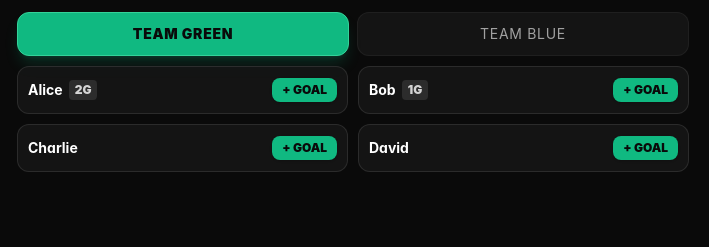
WinnerStaysGoalEntry Component › Roster Switching & Display › switches the displayed player roster instantly when toggling tabs
The width and height of the screenshot is (709, 247).
Expected: the text "Alice" is shown, [28,80,63,100]
Expected: the text "Bob" is shown, [369,80,396,100]
// Switch to Team Blue
What coordinates should you click on to do the following:
click the tab "Team Blue"
I would click on:
 (523, 34)
Its box is [357,12,689,56].
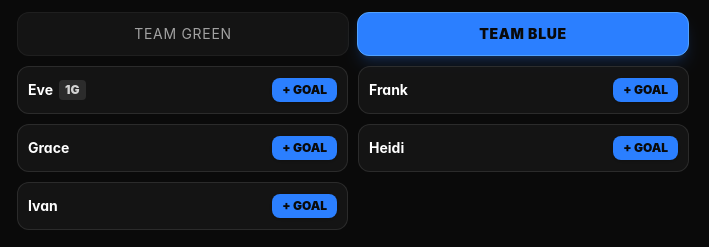
Expected: the text "Eve" is shown, [28,80,53,100]
Expected: the text "Frank" is shown, [369,80,408,100]
Expected: the text "Grace" is shown, [28,138,69,158]
